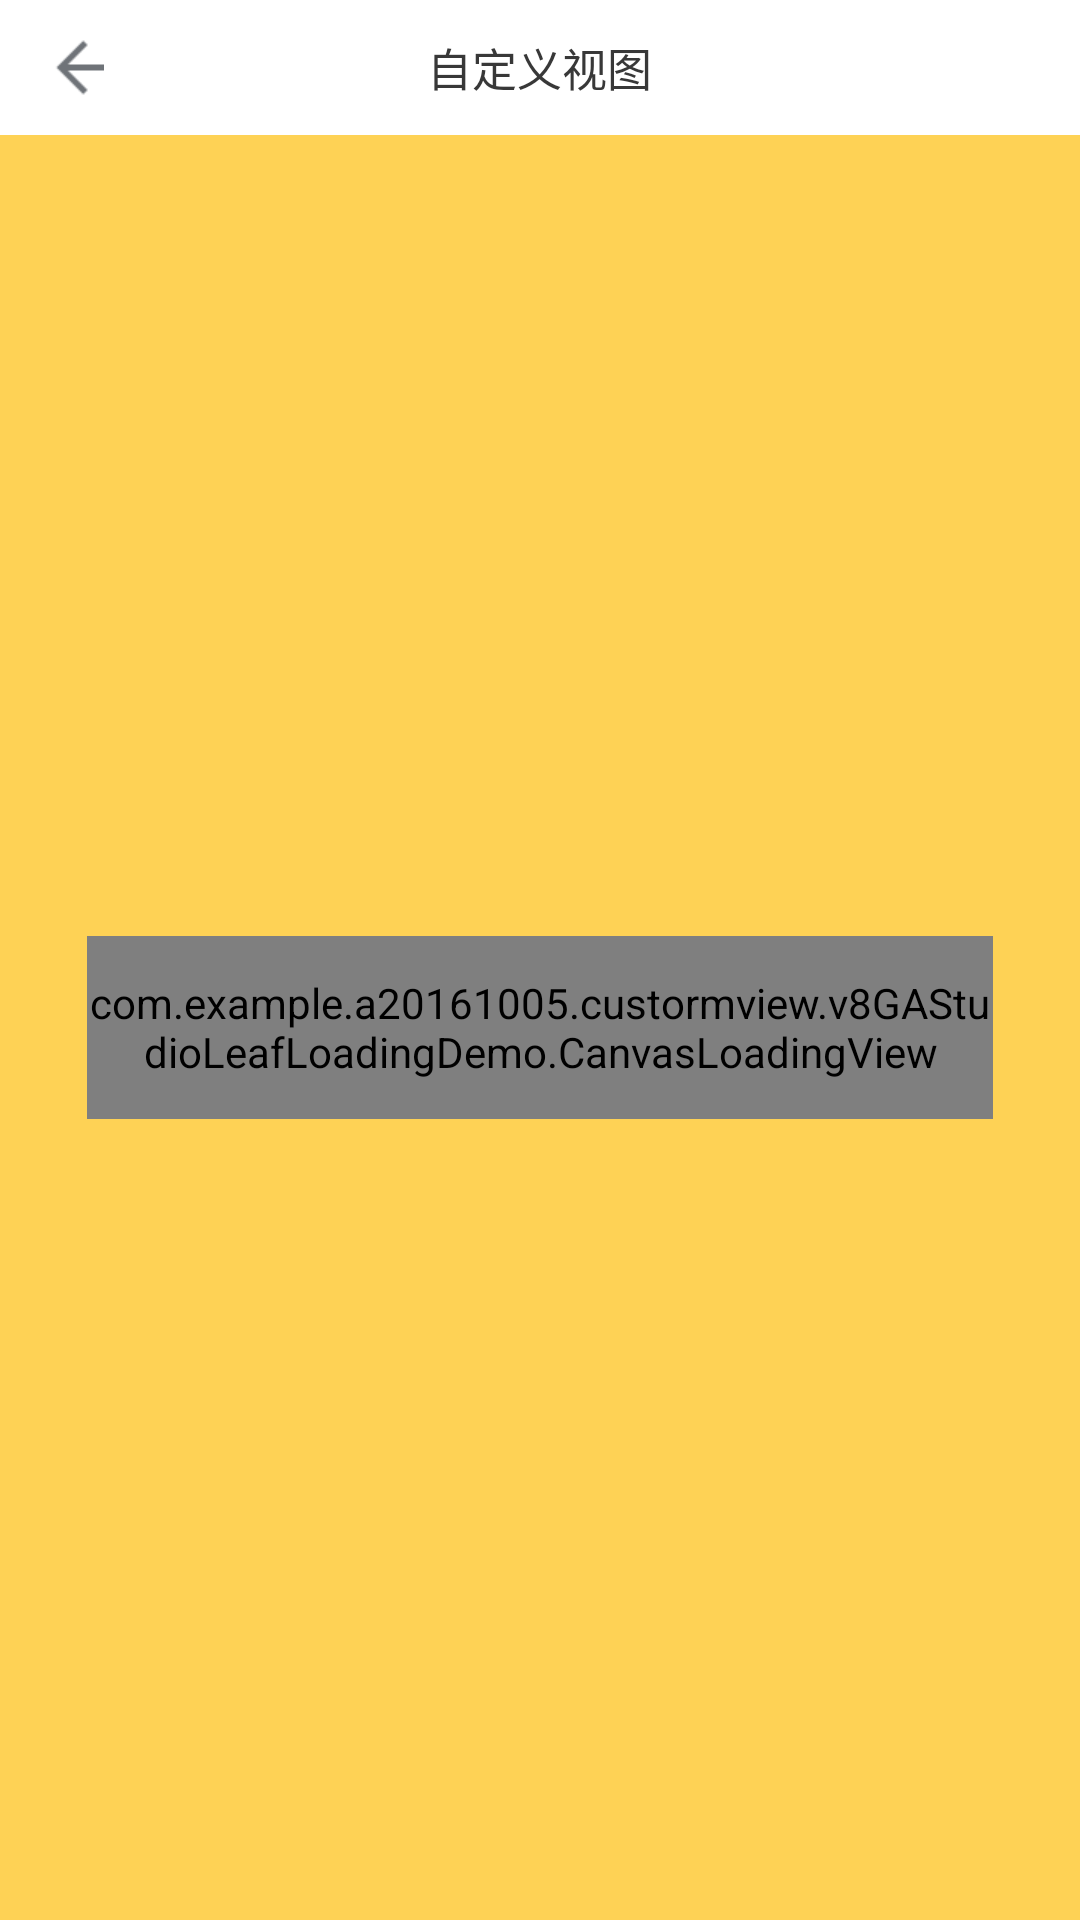

Icons on this 1080*1920 Android screen, each with the point to tap as [x,y]:
title back: [80,67]
